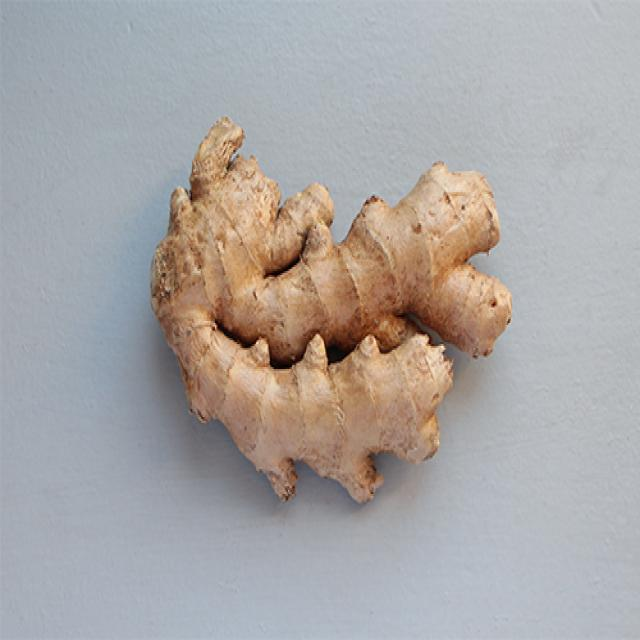ginger-root: (146, 114, 524, 536)
